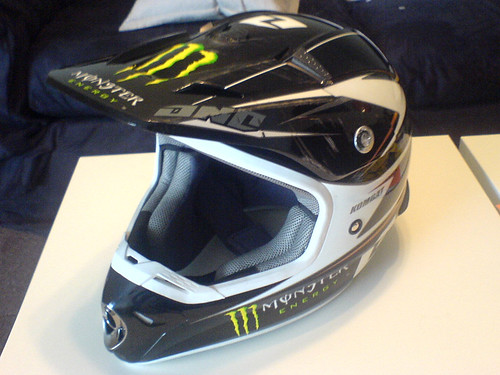helmet: (52, 25, 423, 356)
